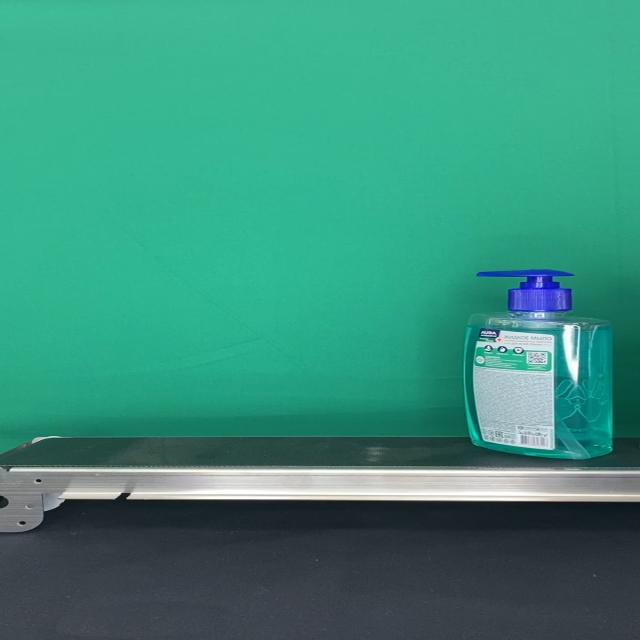Bottle: (462, 269, 612, 459)
Cap: (476, 270, 577, 312)
